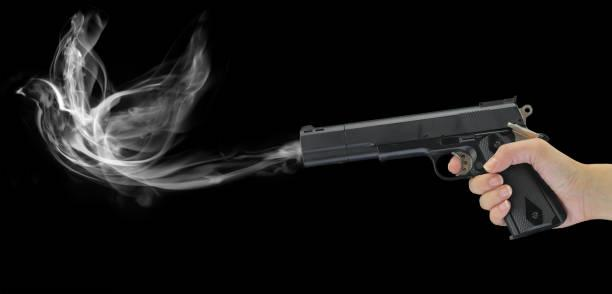weapon: (292, 94, 567, 243)
